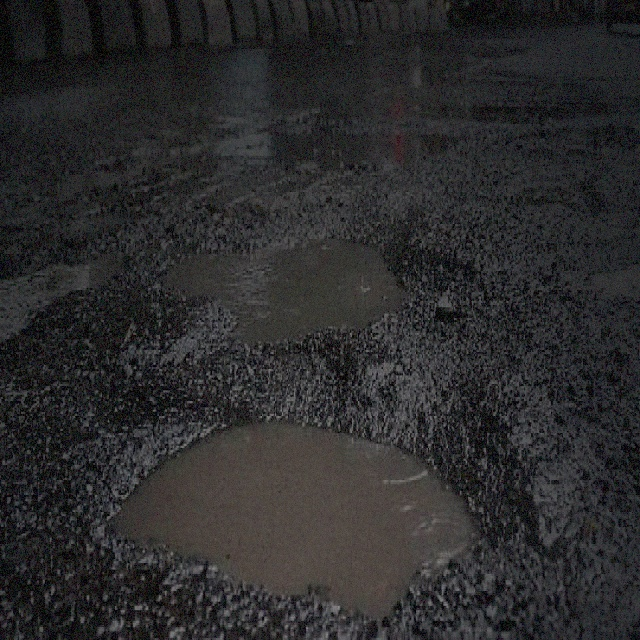pothole: (98, 384, 528, 625), (152, 209, 435, 350)
